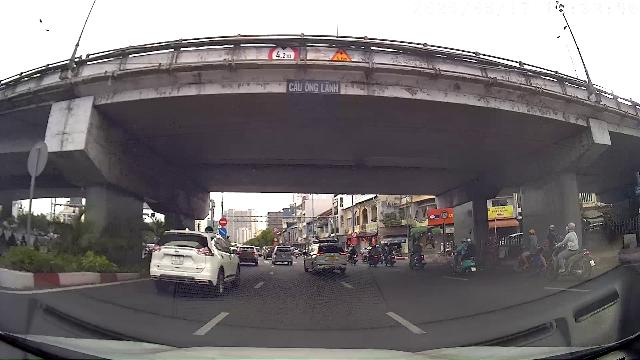123b-cam-re-phai: (440, 210, 449, 219)
